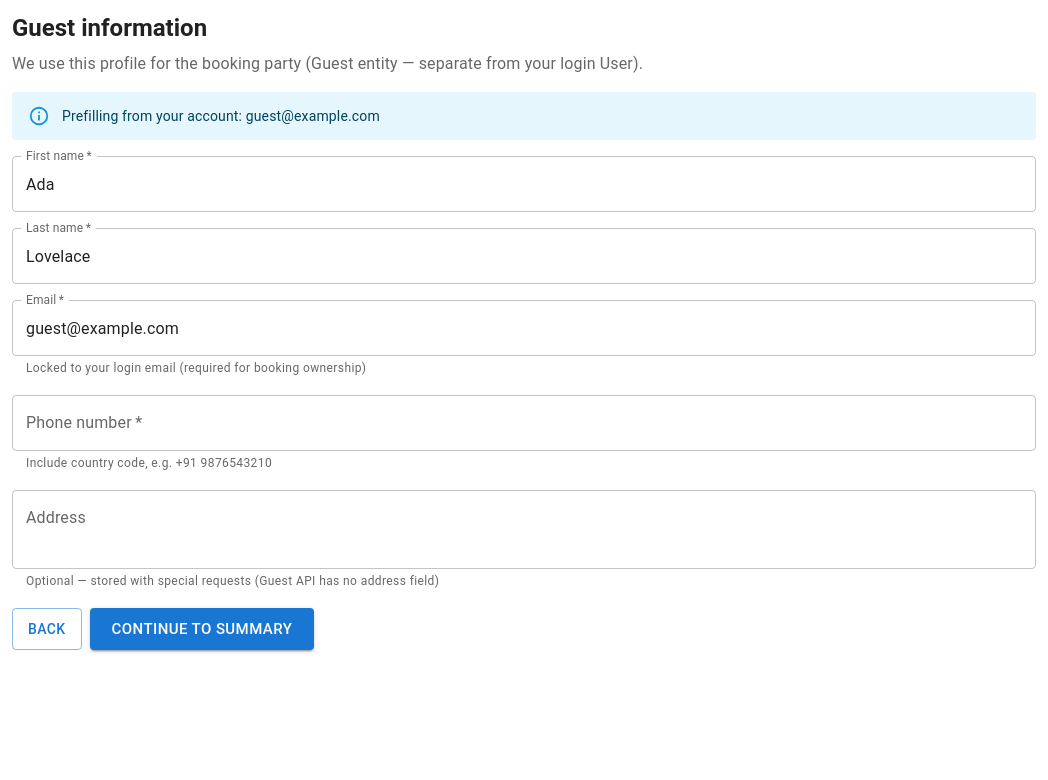
Test case: GuestFormStep › auto-fills logged-in user and validates phone
Expected: the field showing "guest@example.com" is shown, [12,300,1036,356]
Expected: the field showing "Ada" is shown, [12,156,1036,212]
In the field labelled "Phone number *": x=524, y=423 [12,395,1036,451], type "bad"
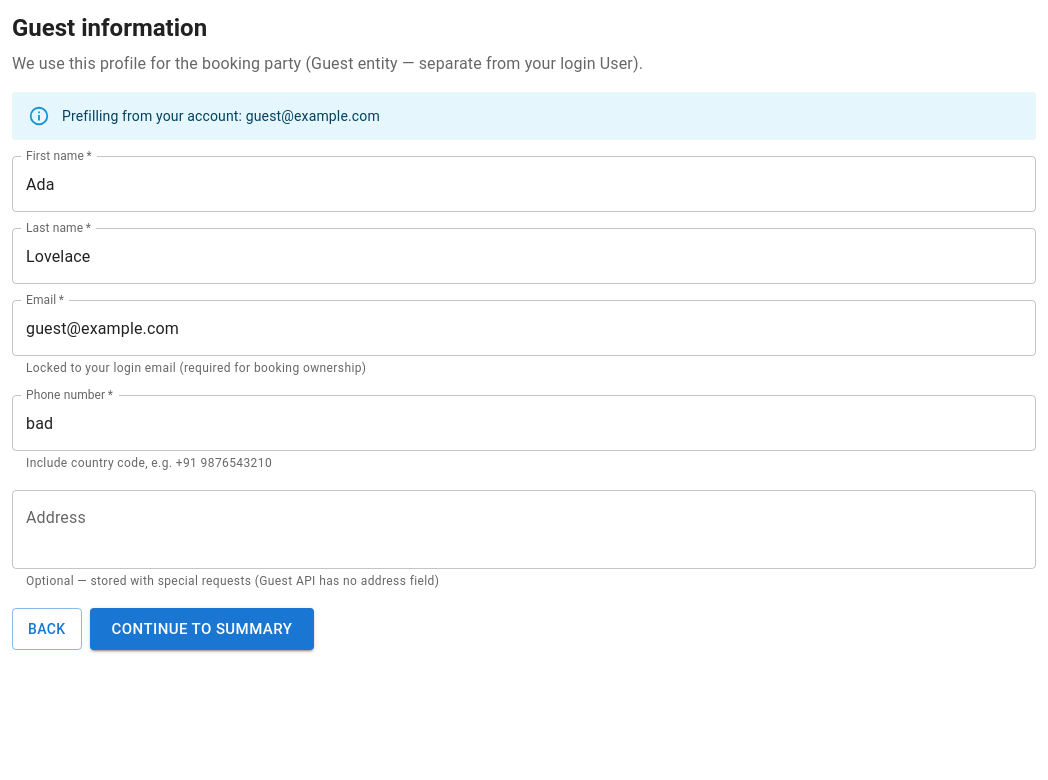
Click the button "Continue to summary": x=202, y=629 [90,608,314,650]
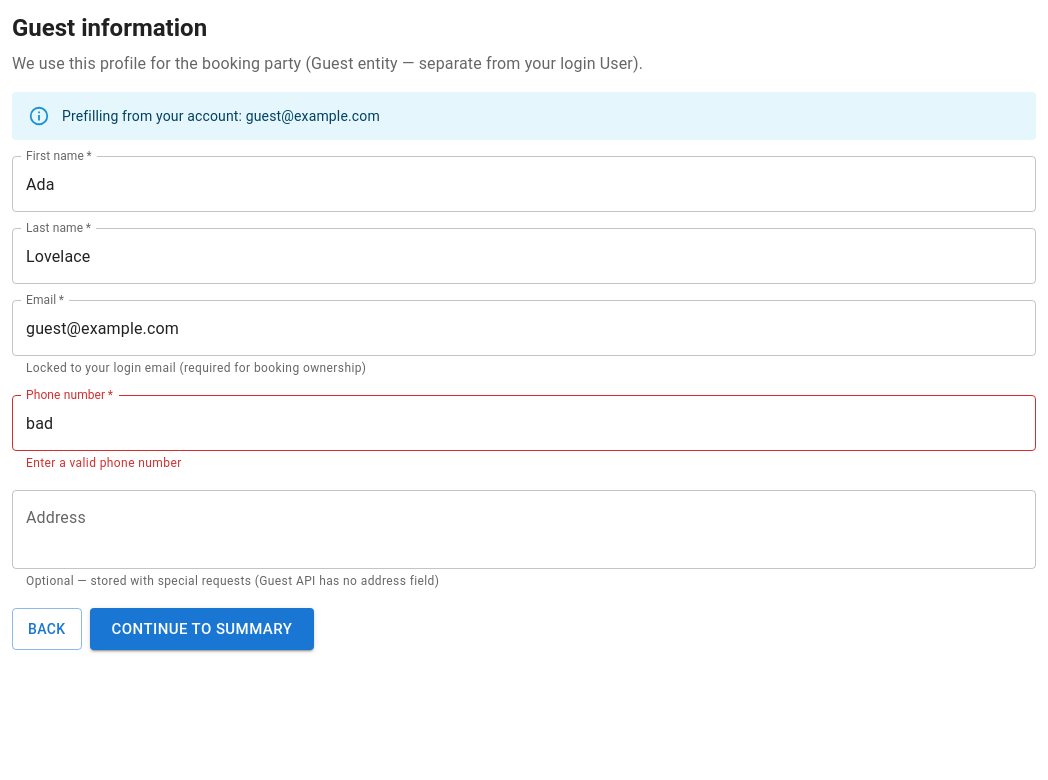
Result: the text "Enter a valid phone number" is shown at [26,456,182,470]
